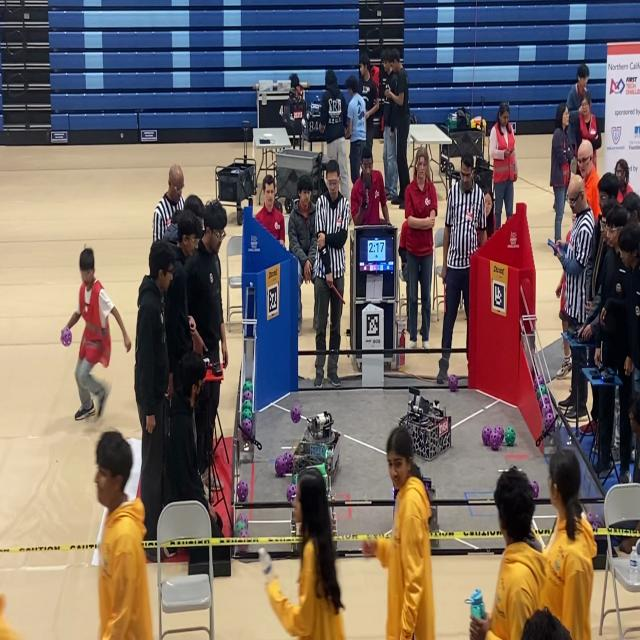artifact_green: (505, 427, 515, 446), (234, 521, 246, 536), (237, 513, 248, 527), (241, 399, 253, 411), (537, 385, 547, 399), (531, 481, 539, 498), (242, 409, 252, 420), (243, 380, 252, 391), (243, 391, 252, 400)
artifact_purple: (490, 430, 502, 451), (275, 456, 286, 477), (544, 408, 555, 429), (237, 480, 248, 501), (241, 419, 252, 439), (283, 451, 293, 472), (291, 403, 301, 423), (61, 328, 72, 346), (234, 520, 246, 536), (482, 426, 491, 446), (287, 484, 296, 503), (236, 513, 248, 527), (495, 425, 504, 443), (449, 374, 458, 391), (541, 393, 551, 407), (531, 481, 539, 498), (587, 512, 596, 526), (539, 396, 546, 411), (243, 390, 252, 401), (238, 529, 249, 538), (239, 529, 249, 538), (593, 519, 602, 529), (537, 375, 545, 385), (533, 380, 538, 392)
